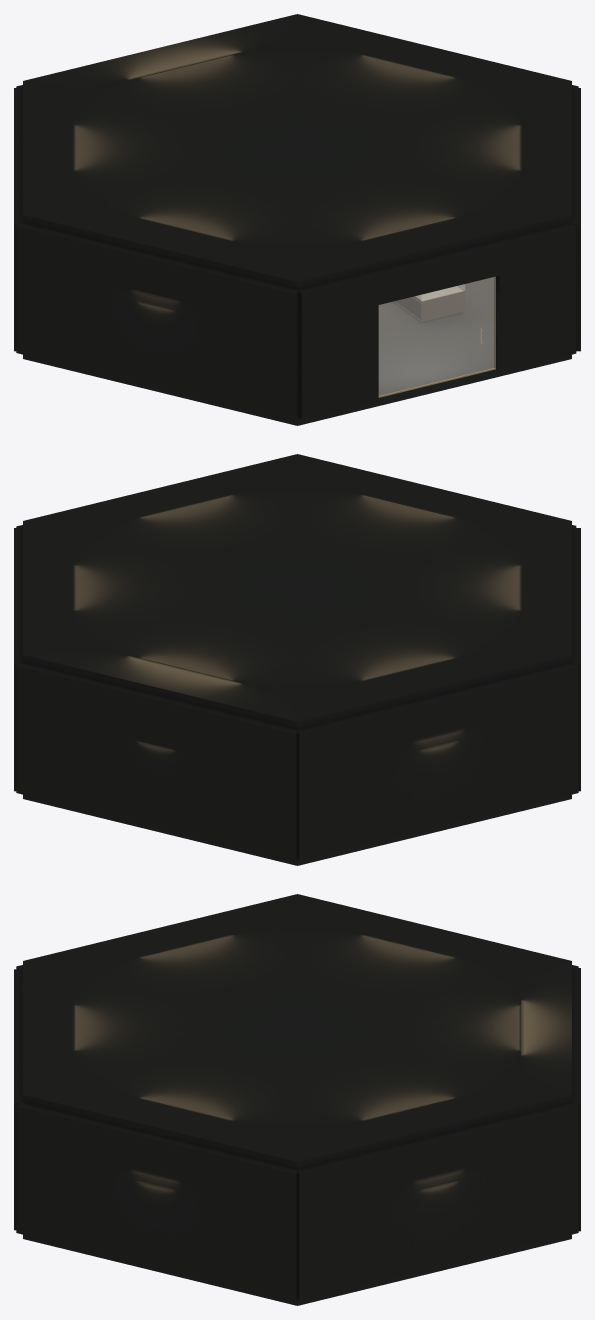
Rendered from museum_R09.glb.
3 views of the same model, one above another, from view 1: azimuth 30°, elevation 25°; view 2: azimuth 150°, elevation 25°; view 3: azimuth 270°, elevation 25° (orthographic).
Visible parts, largest first — view 1: R09_Baked_Architecture_and_Lining, Web_R09_Single glass door, Web_R09_Island_R_base; view 2: R09_Baked_Architecture_and_Lining; view 3: R09_Baked_Architecture_and_Lining.
Part boxes in pixels (<box>): R09_Baked_Architecture_and_Lining: <box>14,14,580,425</box>; Web_R09_Single glass door: <box>379,277,494,396</box>; Web_R09_Island_R_base: <box>393,291,464,321</box>; R09_Baked_Architecture_and_Lining: <box>14,454,580,865</box>; R09_Baked_Architecture_and_Lining: <box>14,894,580,1305</box>.
Size of the model in its own units: 21.39 by 5.22 by 18.6.
7 materials, 2 textured.
